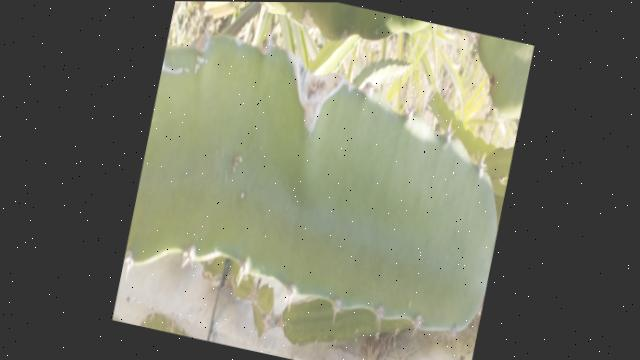stemcanker: (225, 151, 249, 182), (233, 181, 253, 203), (375, 205, 393, 225)
